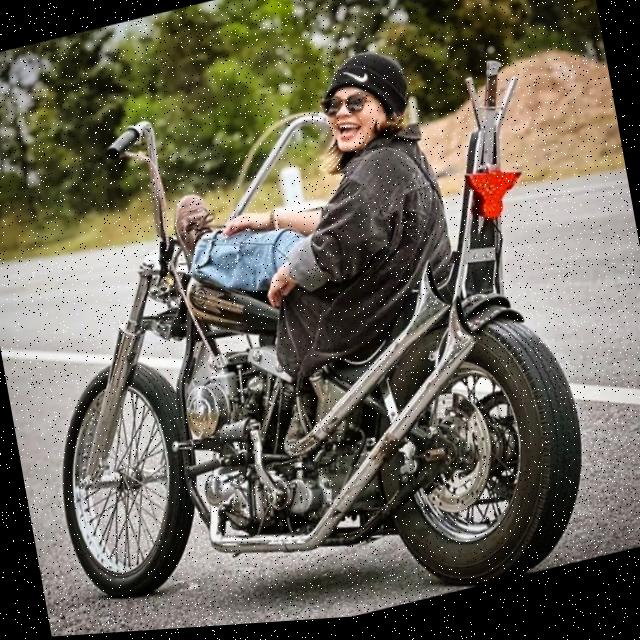illegal_helmet: (310, 45, 421, 167)
